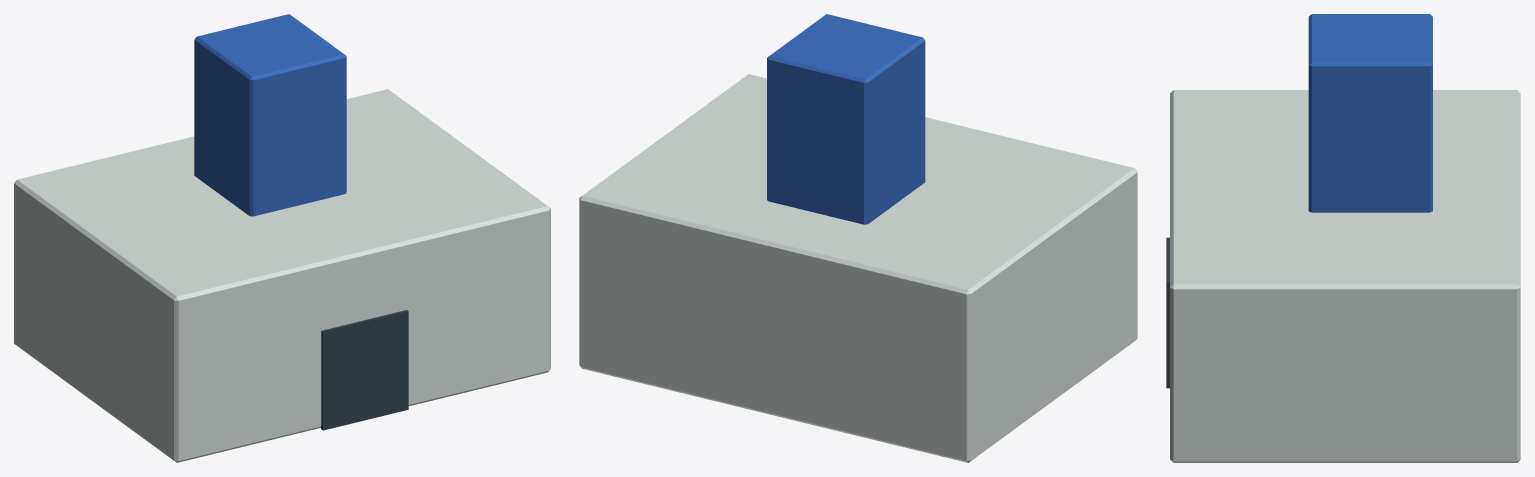
Rendered from civic_hall-low.glb.
3 renders of one model, left to right at view 1: azimuth 30°, elevation 25°; view 2: azimuth 150°, elevation 25°; view 3: azimuth 270°, elevation 25°, orthographic. The views are drawn at different scales.
Parts seen in each view (by area): view 1: Civic_Base, Civic_Tower, Civic_Entry; view 2: Civic_Base, Civic_Tower; view 3: Civic_Base, Civic_Tower, Civic_Entry.
Part boxes in pixels (left/top/right/bottom): Civic_Base: left=14, top=89, right=550, bottom=462; Civic_Tower: left=194, top=14, right=346, bottom=216; Civic_Entry: left=321, top=310, right=408, bottom=430; Civic_Base: left=579, top=74, right=1137, bottom=462; Civic_Tower: left=767, top=14, right=925, bottom=224; Civic_Base: left=1170, top=90, right=1520, bottom=462; Civic_Tower: left=1308, top=14, right=1432, bottom=212; Civic_Entry: left=1166, top=237, right=1169, bottom=388.
Size of the model in its own units: 6.4 by 4.95 by 4.85.
